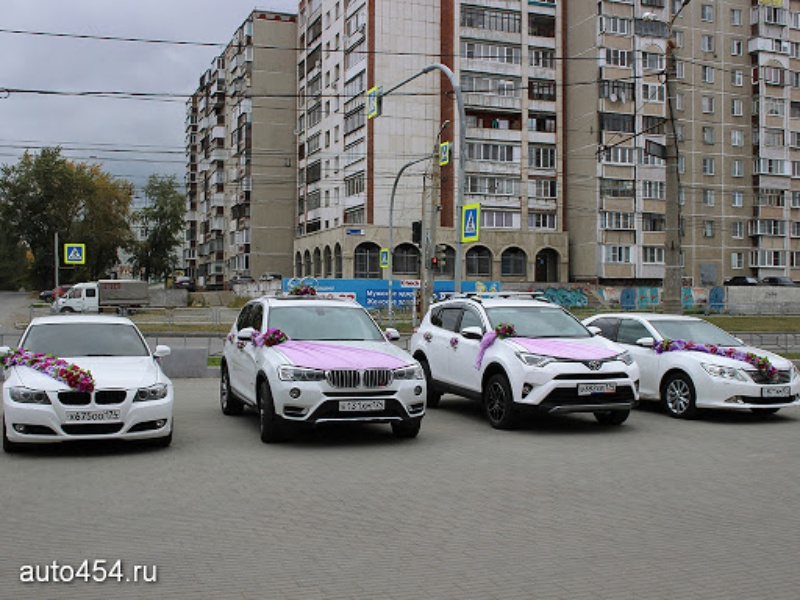car: (409, 292, 642, 428), (221, 296, 426, 444), (1, 315, 174, 451), (580, 313, 800, 415), (52, 278, 150, 314)
plate: (65, 410, 120, 422), (339, 400, 384, 410)
